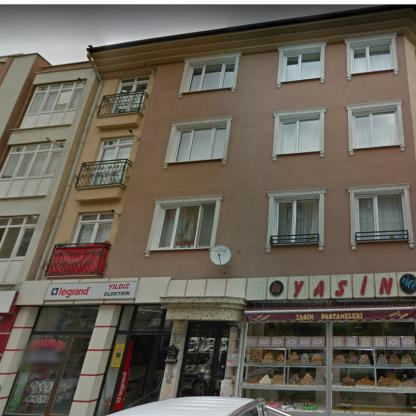door: (176, 321, 228, 397), (46, 333, 90, 415)
window: (235, 322, 415, 415), (5, 306, 98, 415), (95, 303, 172, 415), (1, 144, 61, 198), (152, 202, 216, 249), (20, 82, 85, 127), (354, 191, 407, 240), (274, 197, 320, 243), (172, 124, 227, 162), (352, 109, 400, 149), (0, 216, 39, 262), (279, 116, 320, 154), (187, 61, 235, 92), (351, 41, 394, 74), (72, 212, 113, 244), (284, 51, 321, 81), (97, 137, 133, 161), (118, 76, 149, 93)
